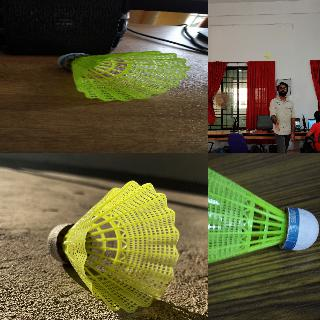shuttlecock: (48, 180, 178, 312), (208, 162, 319, 268), (58, 51, 189, 101), (263, 54, 269, 58)
